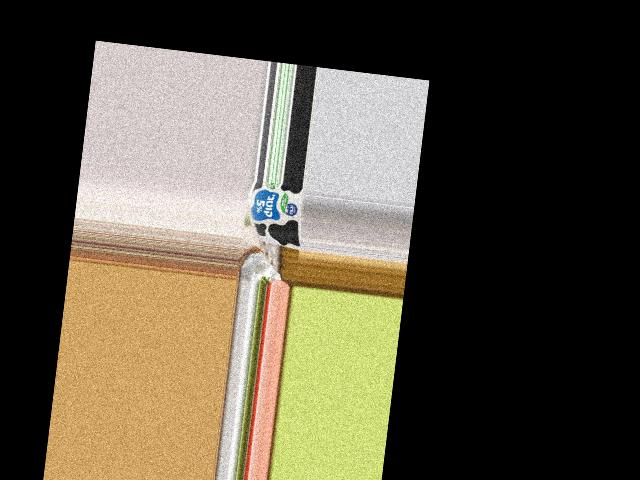cotage: (244, 180, 306, 246)
